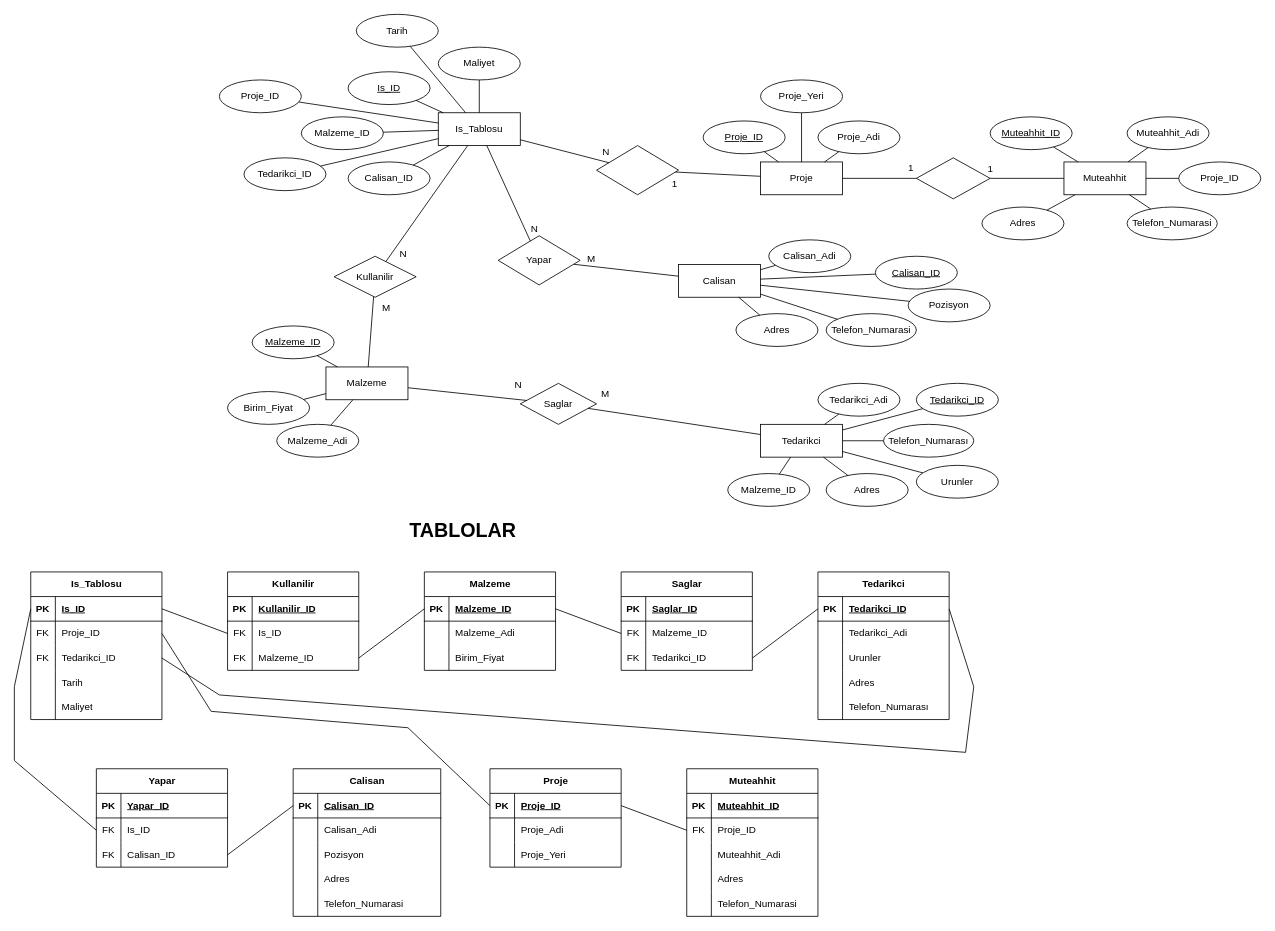
Image size: 1275x931. Some labels were removed from this diagram. Each missing label, with the box of its shape:
Aittir: (596, 145, 679, 195)
Yönetir: (916, 157, 990, 199)
